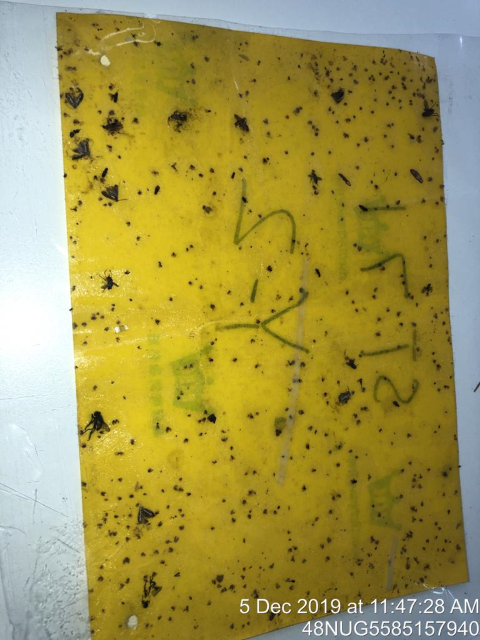DBM: (99, 181, 127, 207), (67, 137, 94, 162), (132, 505, 157, 526), (231, 111, 252, 135), (163, 109, 189, 125), (62, 92, 86, 109), (337, 389, 353, 407)
